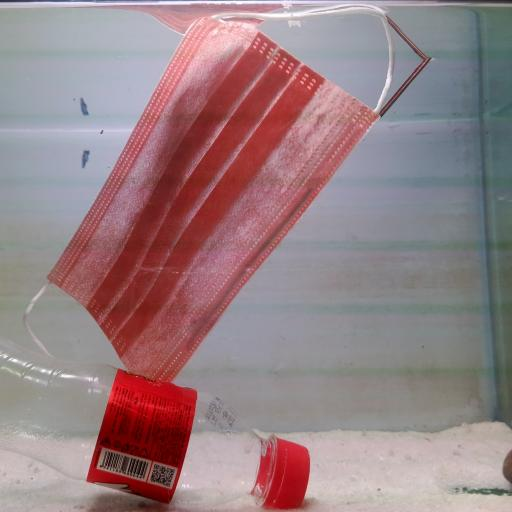bottle_cap: (263, 432, 317, 512)
mask: (4, 6, 396, 382)
plastic_bottle: (0, 346, 322, 512)
